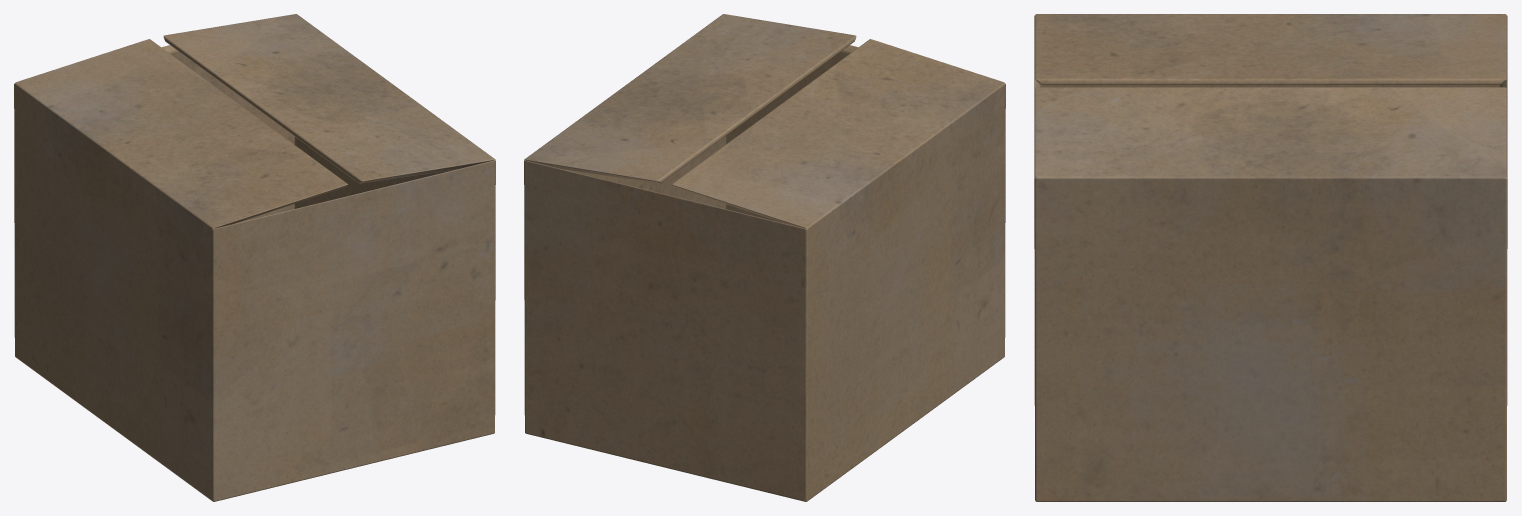
3 views of the same model, side by side, from view 1: azimuth 30°, elevation 25°; view 2: azimuth 150°, elevation 25°; view 3: azimuth 270°, elevation 25° (orthographic). The views are drawn at different scales.
Visible parts, largest first — view 1: FG Box 1_dup_2.Shape; view 2: FG Box 1_dup_2.Shape; view 3: FG Box 1_dup_2.Shape.
Boxes of the visible parts, x1=… form: FG Box 1_dup_2.Shape: x1=14, y1=14, x2=495, y2=501; FG Box 1_dup_2.Shape: x1=524, y1=14, x2=1005, y2=501; FG Box 1_dup_2.Shape: x1=1034, y1=14, x2=1507, y2=501.
Size of the model in its own units: 24.98 by 24.04 by 30.47.
1 material, 1 textured.
